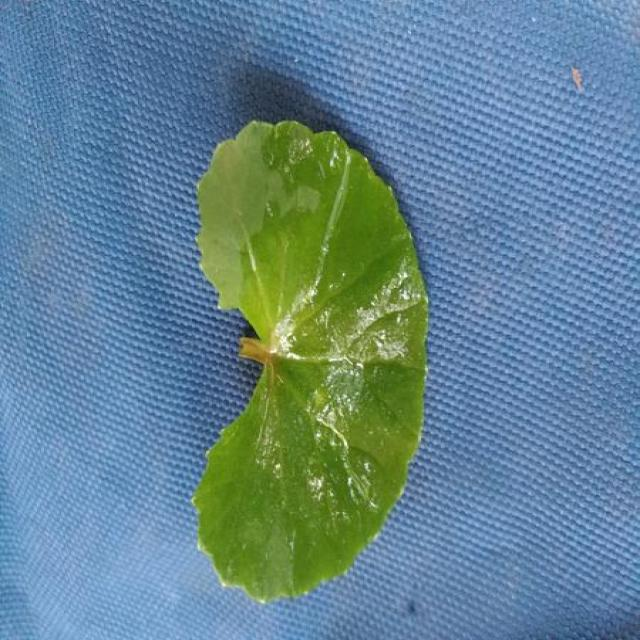defectedbhrami: (193, 121, 427, 601)
disease in leaf: (270, 302, 424, 499)
